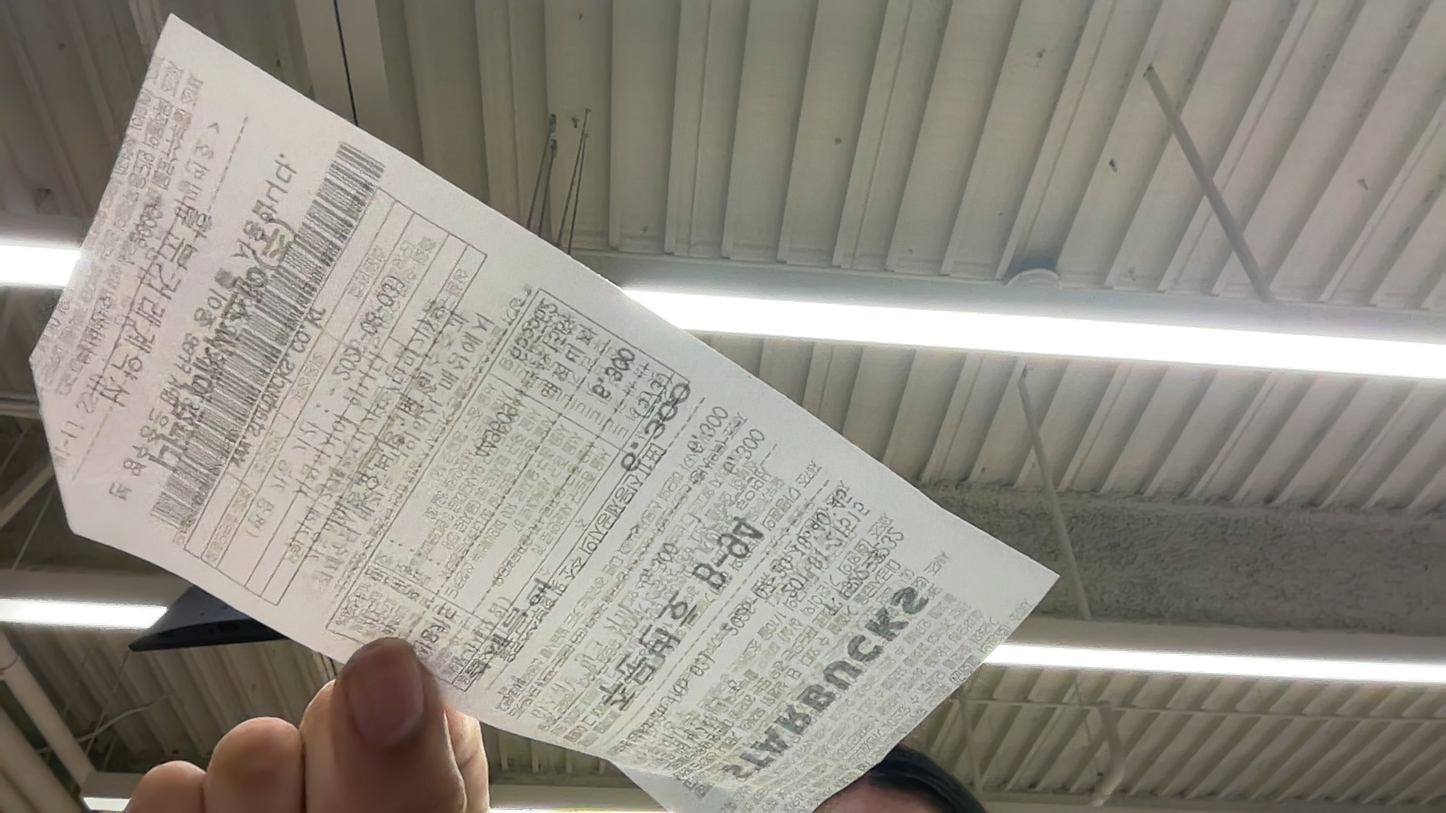Paper: (0, 234, 88, 285)
